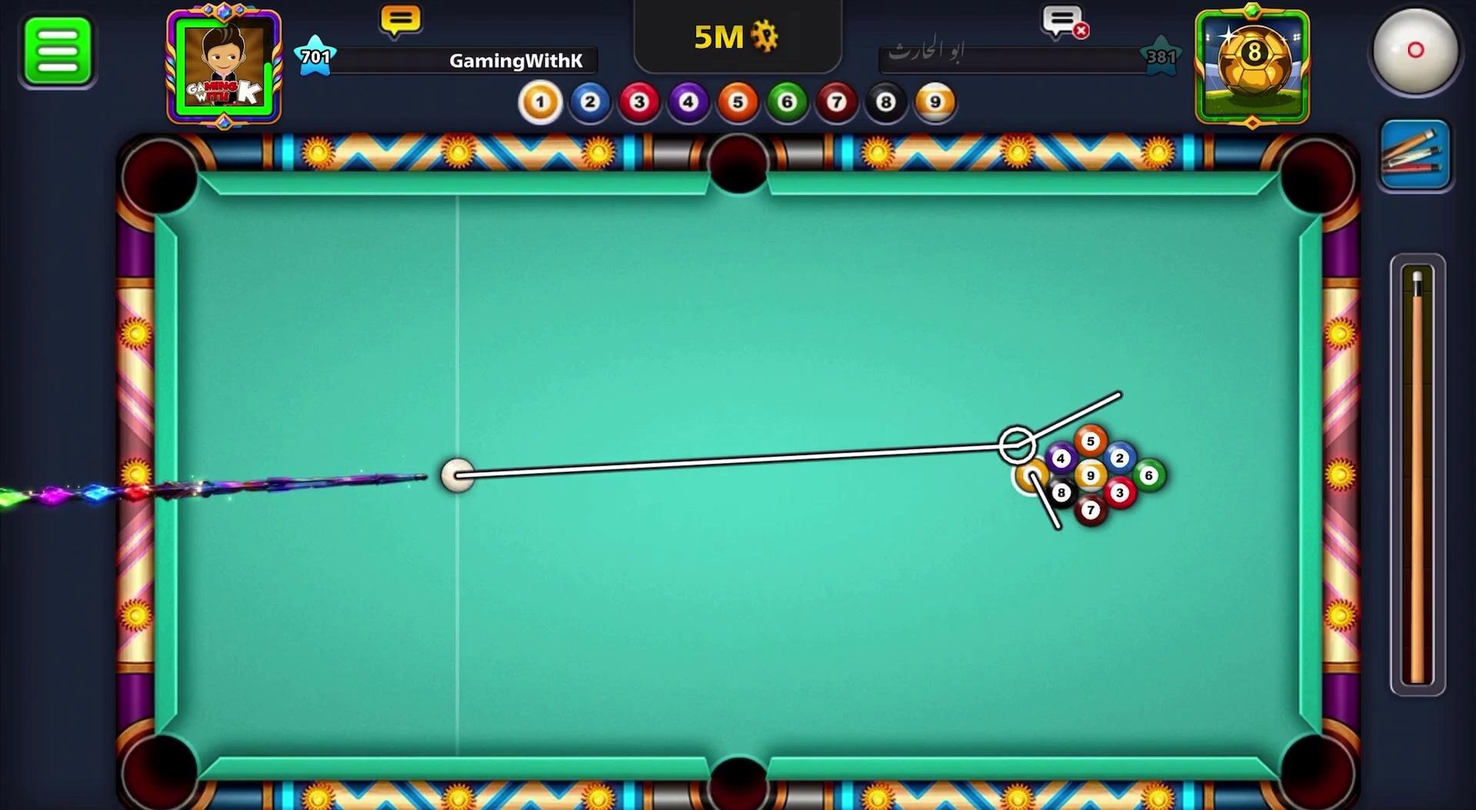Ball: (1009, 457, 1052, 497), (1102, 473, 1140, 511), (1042, 473, 1081, 510), (1132, 454, 1169, 492), (1072, 490, 1108, 529), (1041, 439, 1080, 474), (1075, 421, 1110, 459), (1072, 457, 1108, 493), (1103, 438, 1137, 473)
Force: (1388, 254, 1451, 705)
Guideline: (458, 379, 1131, 536)
Hole: (107, 128, 212, 231), (1268, 129, 1366, 230), (1264, 715, 1364, 809), (111, 724, 208, 809), (685, 738, 786, 809), (700, 123, 778, 204)
Play_Area: (178, 193, 1300, 760)
Spin: (1347, 1, 1475, 113)
White: (429, 453, 478, 496)
